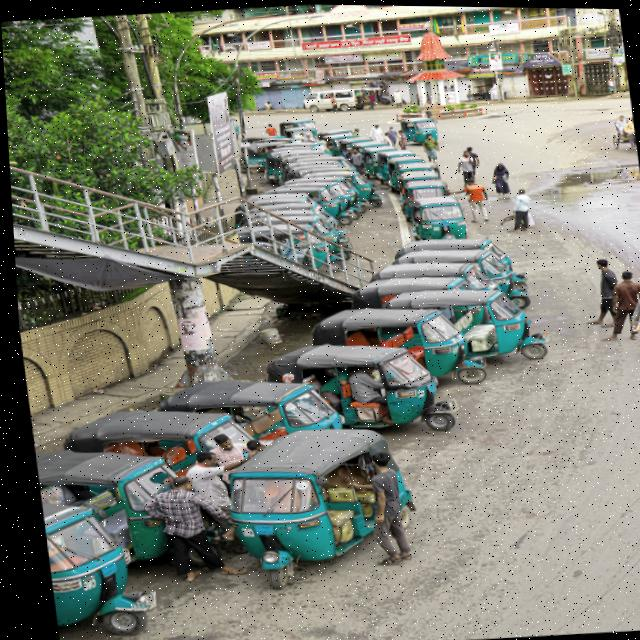cng: (221, 413, 393, 572), (258, 329, 462, 445), (271, 331, 445, 435), (64, 409, 237, 499), (377, 278, 523, 356), (35, 494, 118, 599)
